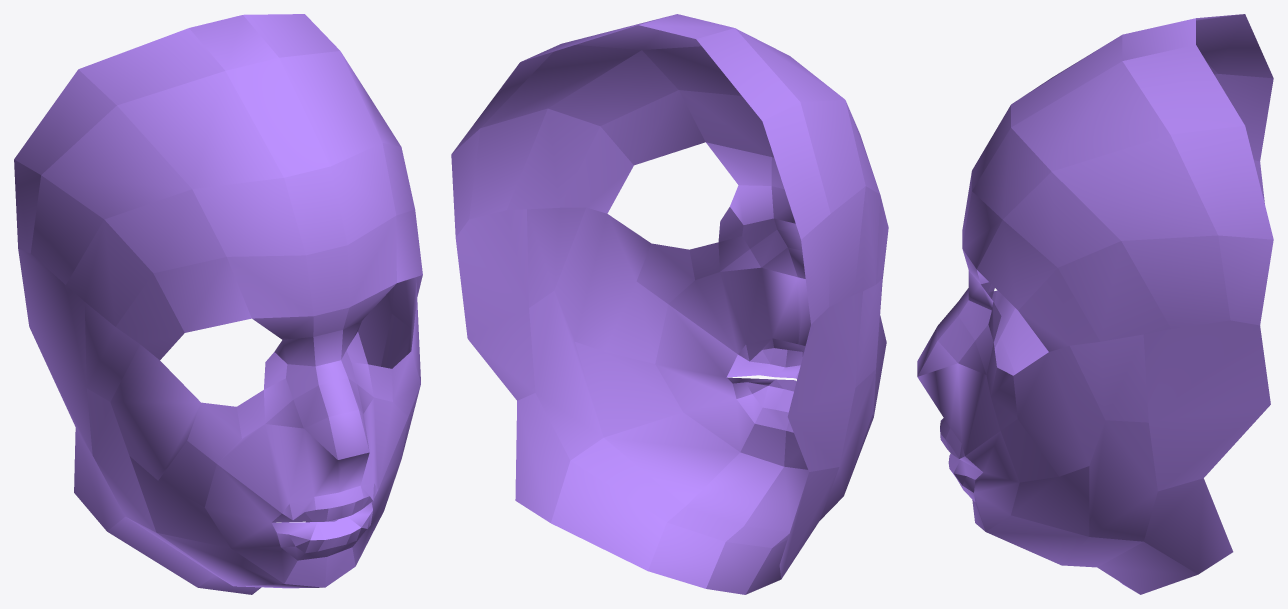
Rendered from prop_mask.glb.
3 renders of one model, left to right at view 1: azimuth 30°, elevation 25°; view 2: azimuth 150°, elevation 25°; view 3: azimuth 270°, elevation 25°, orthographic. The views are drawn at different scales.
Parts seen in each view (by area): view 1: head; view 2: head; view 3: head.
Boxes of the visible parts, bbox=[...] form: head: bbox=[14, 14, 422, 594]; head: bbox=[451, 14, 888, 594]; head: bbox=[917, 14, 1273, 594].
Size of the model in its own units: 0.8448 by 1.31 by 0.767.
